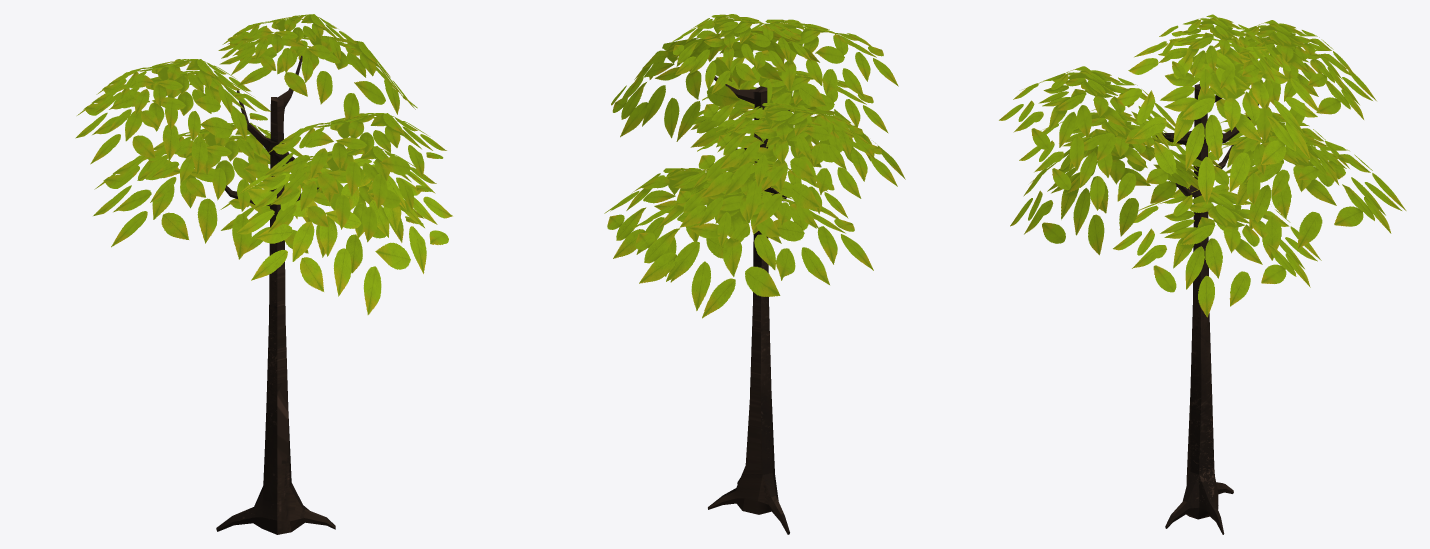
The model's file is Tree_02.fbx.
The picture shows the model from 3 angles, left to right: view 1: azimuth 30°, elevation 25°; view 2: azimuth 150°, elevation 25°; view 3: azimuth 270°, elevation 25°; orthographic projection. The views are drawn at different scales.
Parts seen in each view (by area): view 1: D1; view 2: D1; view 3: D1.
Boxes of the visible parts, x1,y1,x2,y2 form: D1: (75, 14, 452, 534); D1: (604, 14, 905, 534); D1: (999, 14, 1406, 534).
Bounding box in the file's own units: 22.67 × 32.93 × 25.95.
